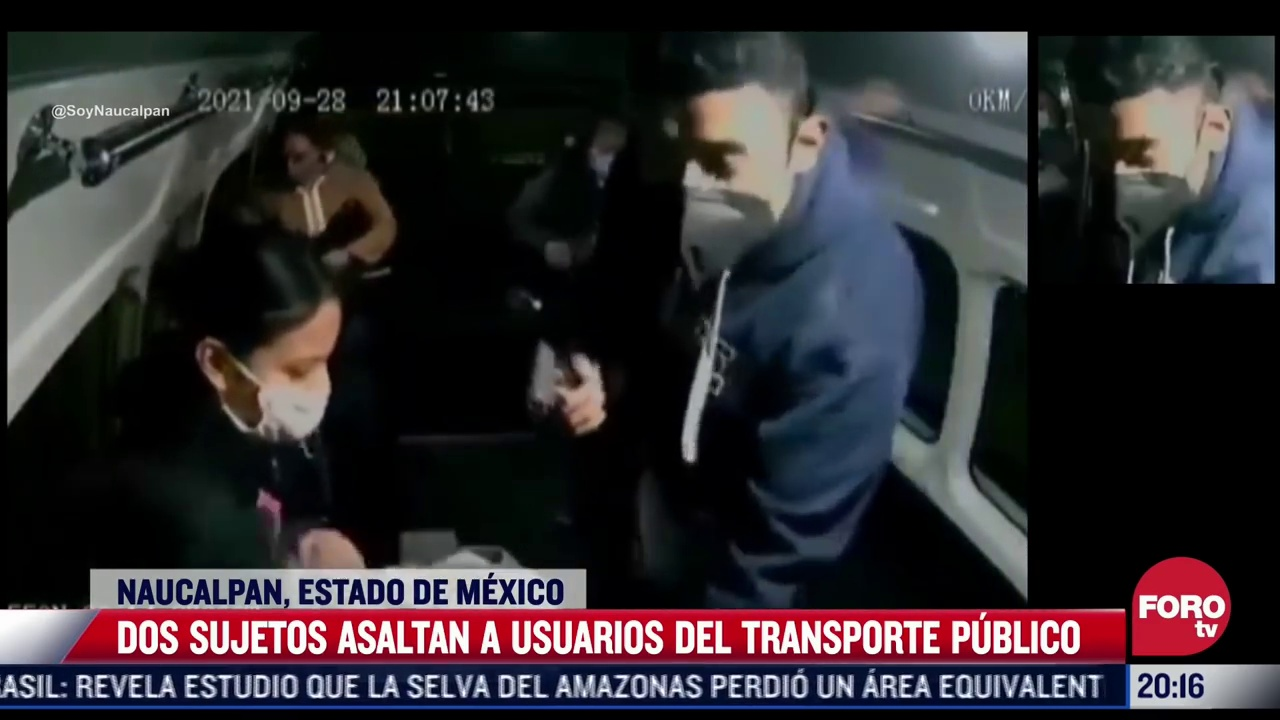pistol: (524, 338, 572, 417)
